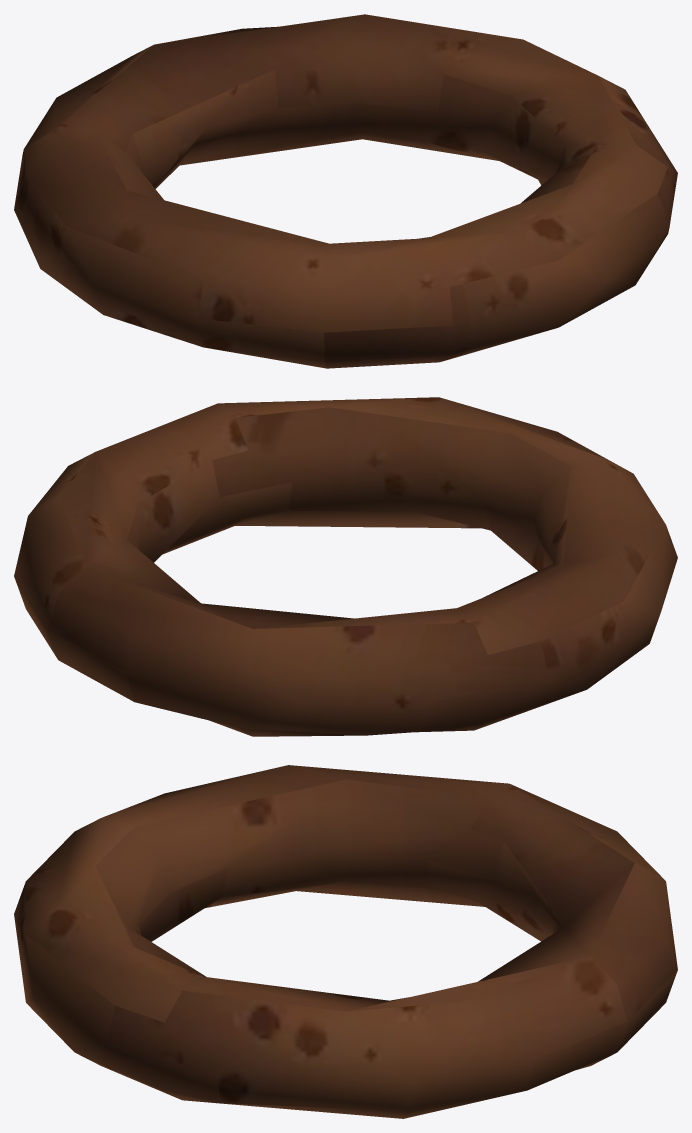
The model's file is acc_band.glb.
3 renders of one model, top to bottom at view 1: azimuth 30°, elevation 25°; view 2: azimuth 150°, elevation 25°; view 3: azimuth 270°, elevation 25°, orthographic.
Visible parts, largest first — view 1: acc_band; view 2: acc_band; view 3: acc_band.
Part boxes in pixels (x1,y1,x2,y2): acc_band: [14, 14, 677, 368]; acc_band: [14, 397, 677, 736]; acc_band: [14, 765, 677, 1118].
Bounding box in the file's own units: 0.023 × 0.00418 × 0.023.
1 material, 1 textured.
